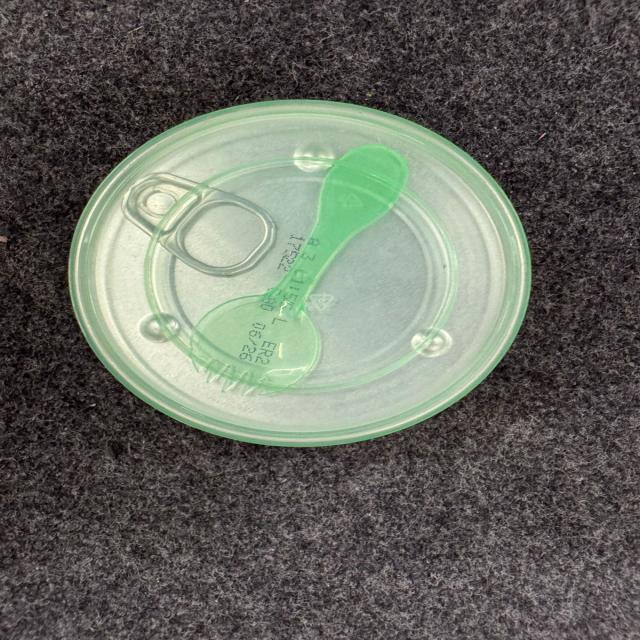Ensalada Atun Mazatun CupCan: (66, 98, 534, 450)
